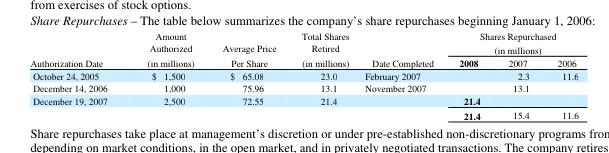table: (29, 28, 577, 121)
table column: (29, 28, 126, 121), (356, 28, 445, 121), (126, 28, 207, 121), (207, 28, 288, 121), (288, 28, 356, 121), (493, 28, 542, 121), (445, 28, 493, 121), (542, 28, 577, 121)
table column header: (29, 28, 577, 69)
table row: (29, 28, 577, 55), (29, 55, 577, 69), (29, 93, 577, 107), (29, 107, 577, 121), (29, 69, 577, 81), (29, 81, 577, 93)
table spanning cell: (29, 28, 126, 69), (356, 28, 445, 69), (445, 28, 577, 55), (126, 28, 207, 69), (207, 28, 288, 69), (288, 28, 356, 69)
